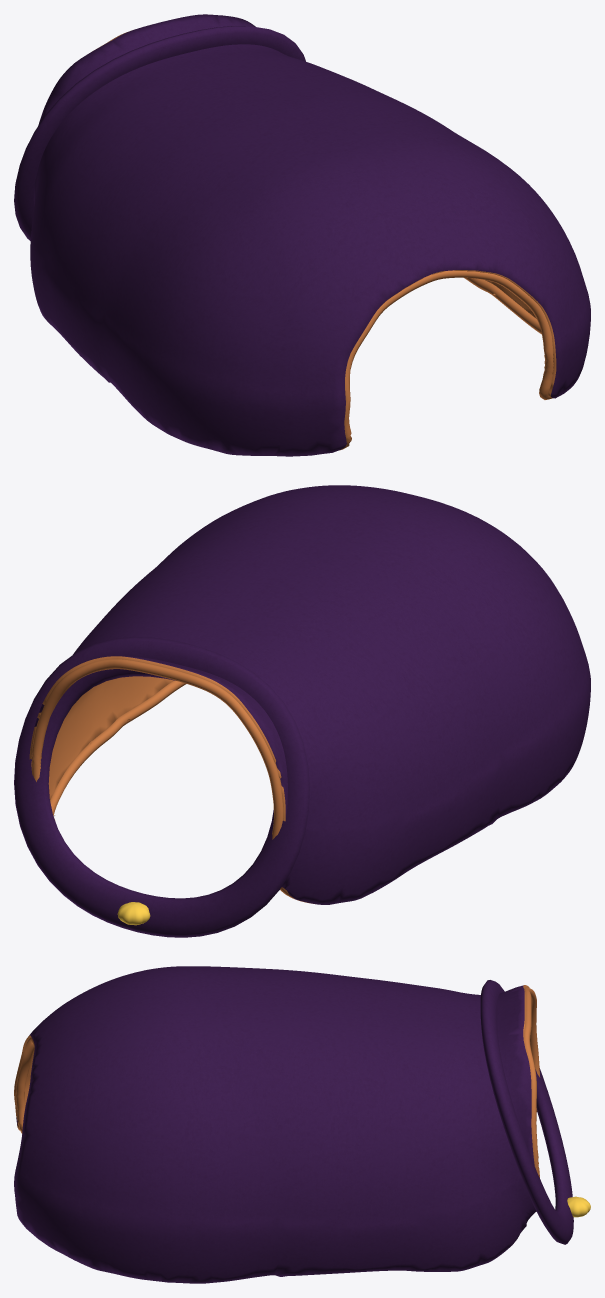
File: cape.glb
The picture shows the model from 3 angles, top to bottom: view 1: azimuth 30°, elevation 25°; view 2: azimuth 150°, elevation 25°; view 3: azimuth 270°, elevation 25°; orthographic projection. The views are drawn at different scales.
Visible parts, largest first — view 1: Cape; view 2: Cape; view 3: Cape.
Boxes of the visible parts, left/top/right/bottom form: Cape: left=14, top=14, right=590, bottom=456; Cape: left=14, top=485, right=590, bottom=937; Cape: left=14, top=966, right=590, bottom=1283.
Bounding box in the file's own units: 0.7259 × 0.4417 × 0.989.
3 materials, 2 textured.
